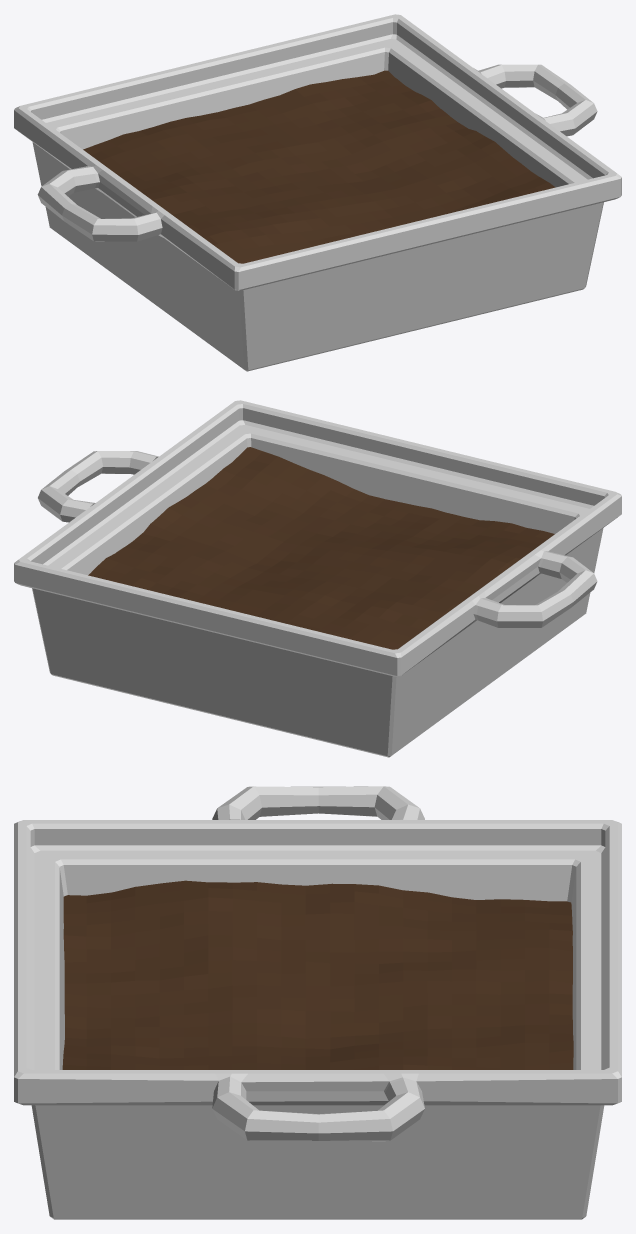
File: pot2.fbx
3 views of the same model, one above another, from view 1: azimuth 30°, elevation 25°; view 2: azimuth 150°, elevation 25°; view 3: azimuth 270°, elevation 25° (orthographic). The views are drawn at different scales.
Visible parts, largest first — view 1: Pot1, pot_soil; view 2: Pot1, pot_soil; view 3: Pot1, pot_soil.
Boxes of the visible parts, x1=… form: Pot1: x1=14, y1=14, x2=621, y2=371; pot_soil: x1=83, y1=70, x2=555, y2=263; Pot1: x1=14, y1=400, x2=621, y2=757; pot_soil: x1=88, y1=447, x2=554, y2=649; Pot1: x1=14, y1=786, x2=621, y2=1219; pot_soil: x1=62, y1=880, x2=573, y2=1069.
Size of the model in its own units: 279 by 61.95 by 211.
